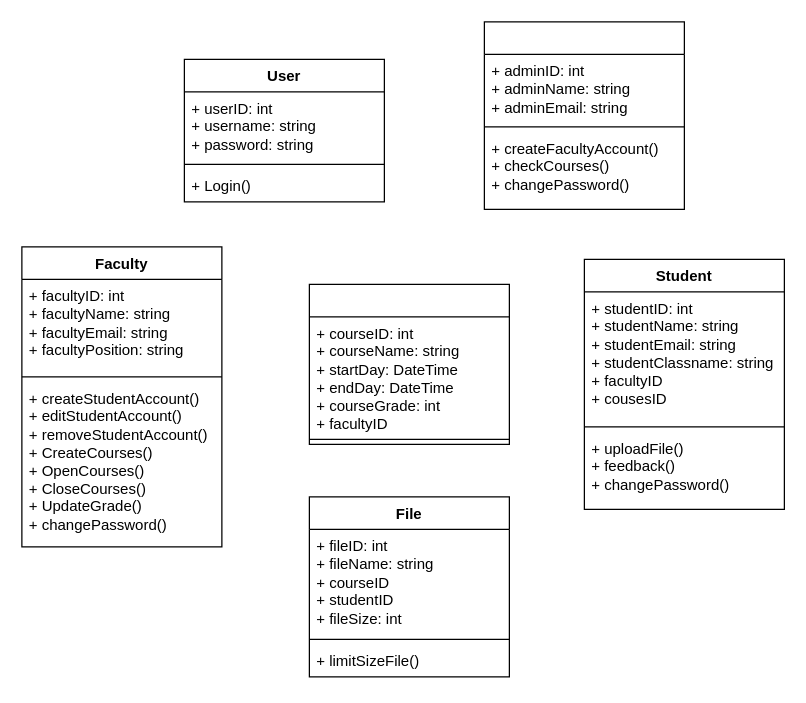
This 806x703 diagram has some shape labels left out. The shapes that lost their labels are listed below. From the top down, each one's box as (x1, y1, x2, y2) in pixels, then its label:
(483, 21, 684, 209): Administrator
(308, 283, 509, 444): Courses
